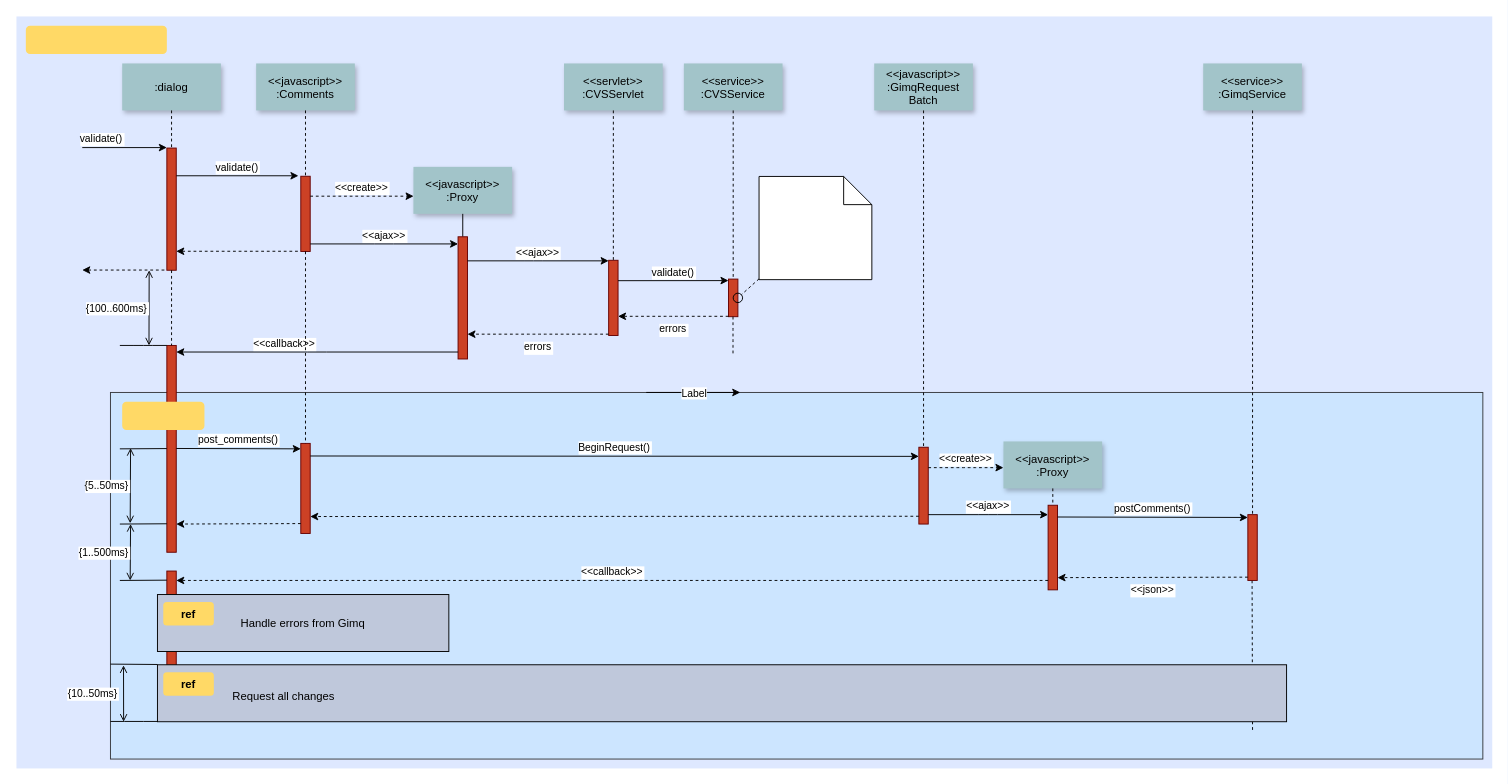
Image size: 1508x784. Some labels were removed from this diagram. The shapes that lost their labels are listed below. From the top down, each one's centre as x and y in pixels, then its label:
At (95,39): "rt submit_changes".
At (815,227): "- user validation - password check".
At (163,415): "opt".
